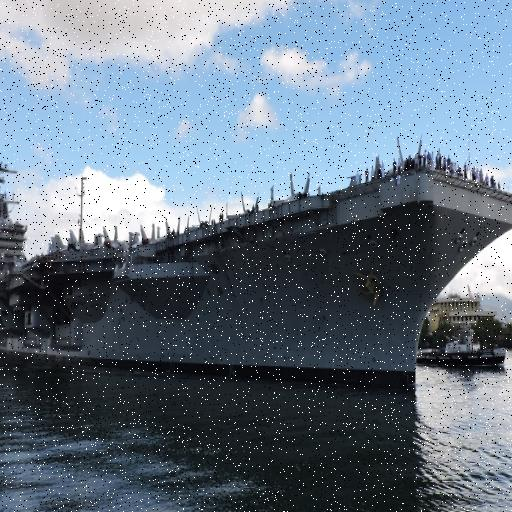Portanaves: (1, 131, 512, 414)
